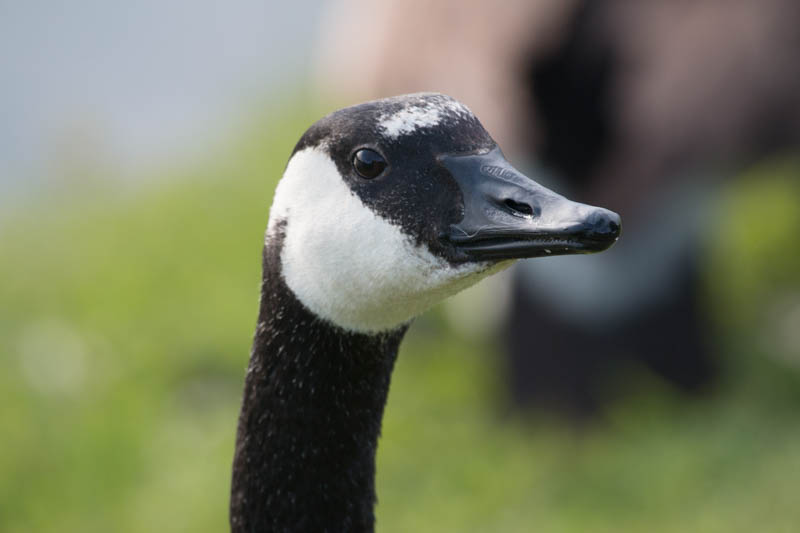goose-head: (261, 93, 622, 339)
